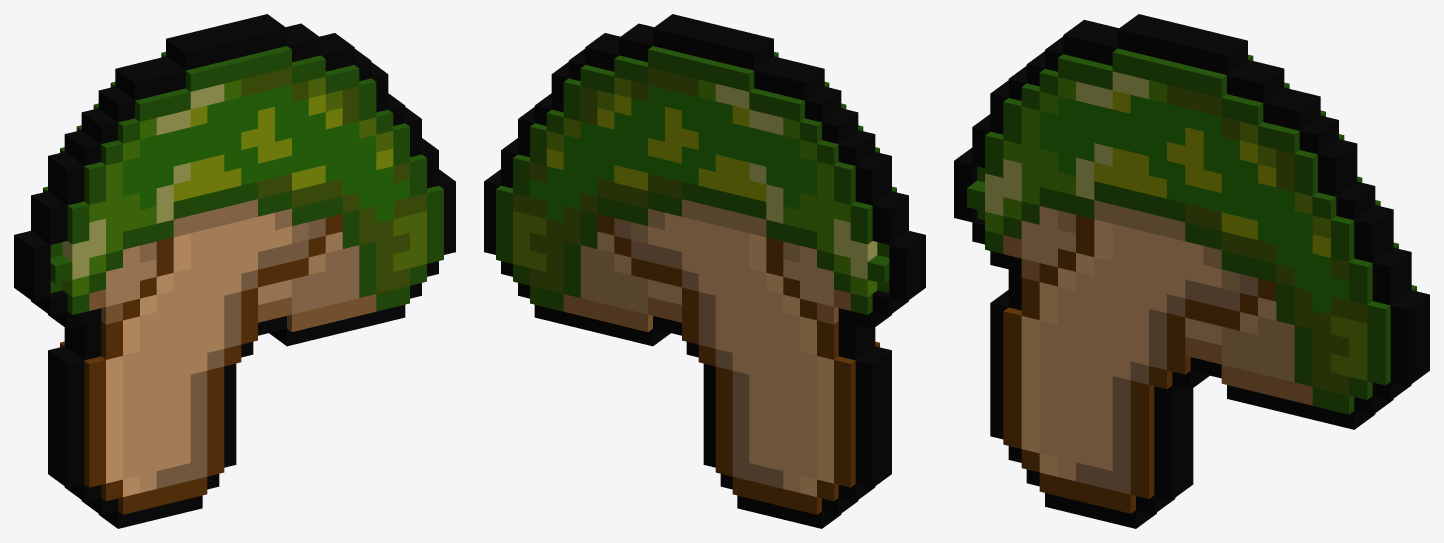
File: green mushroom.glb
3 renders of one model, left to right at view 1: azimuth 30°, elevation 25°; view 2: azimuth 150°, elevation 25°; view 3: azimuth 330°, elevation 25°, orthographic. The views are drawn at different scales.
Parts seen in each view (by area): view 1: generated(Clone); view 2: generated(Clone); view 3: generated(Clone).
Boxes of the visible parts, left/top/right/bottom form: generated(Clone): left=14, top=14, right=455, bottom=528; generated(Clone): left=484, top=14, right=925, bottom=528; generated(Clone): left=954, top=14, right=1429, bottom=528.
Bounding box in the file's own units: 25 × 26 × 3.
